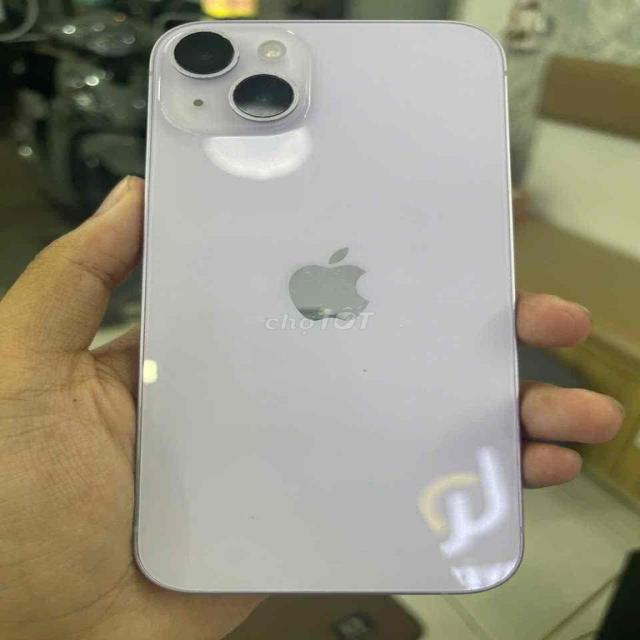gen_14: (130, 11, 532, 602)
